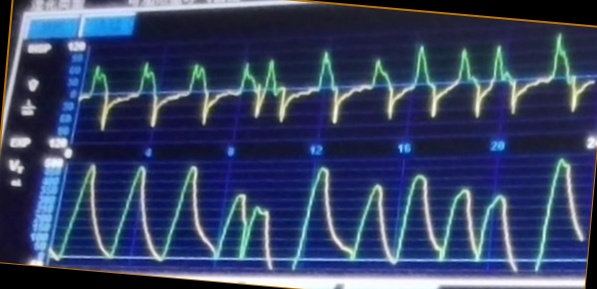Double_Triggering Flow: (88, 35, 594, 130)
Double_Triggering Volume: (77, 163, 584, 272)
